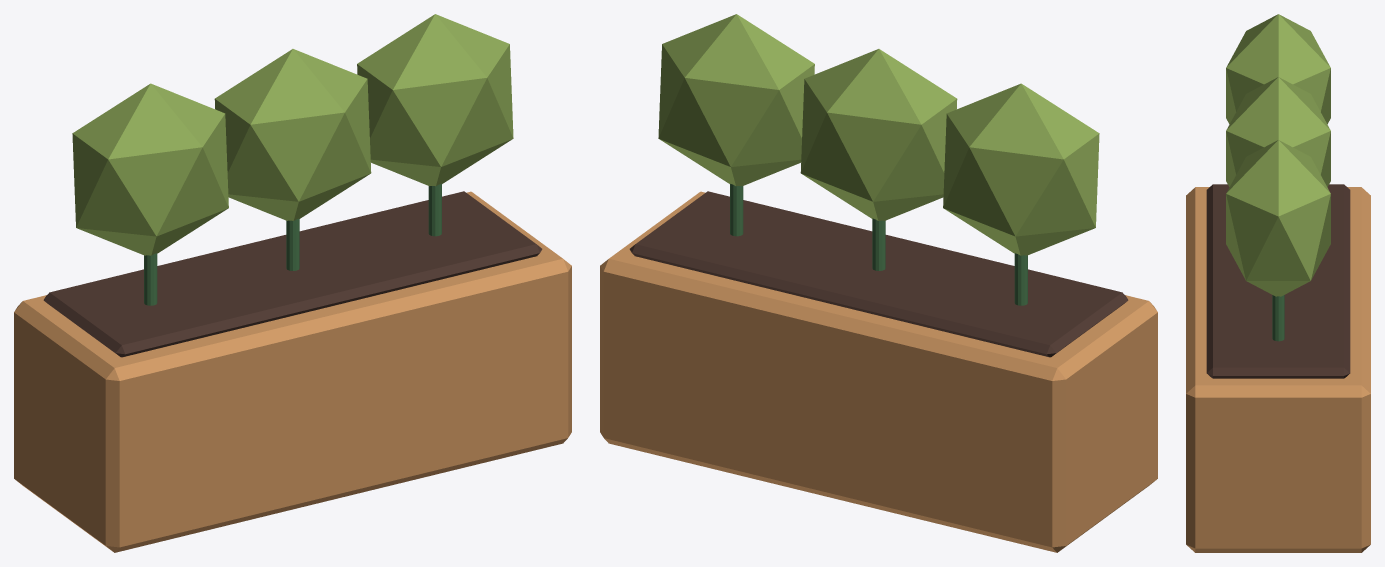
File: market_16_Herb_Planter.glb
3 renders of one model, left to right at view 1: azimuth 30°, elevation 25°; view 2: azimuth 150°, elevation 25°; view 3: azimuth 270°, elevation 25°, orthographic. The views are drawn at different scales.
Visible parts, largest first — view 1: 16_Herb_Planter; view 2: 16_Herb_Planter; view 3: 16_Herb_Planter.
Part boxes in pixels (<box>): 16_Herb_Planter: <box>14,14,571,552</box>; 16_Herb_Planter: <box>600,14,1157,552</box>; 16_Herb_Planter: <box>1186,14,1370,552</box>.
Size of the model in its own units: 0.95 by 0.81 by 0.36.
